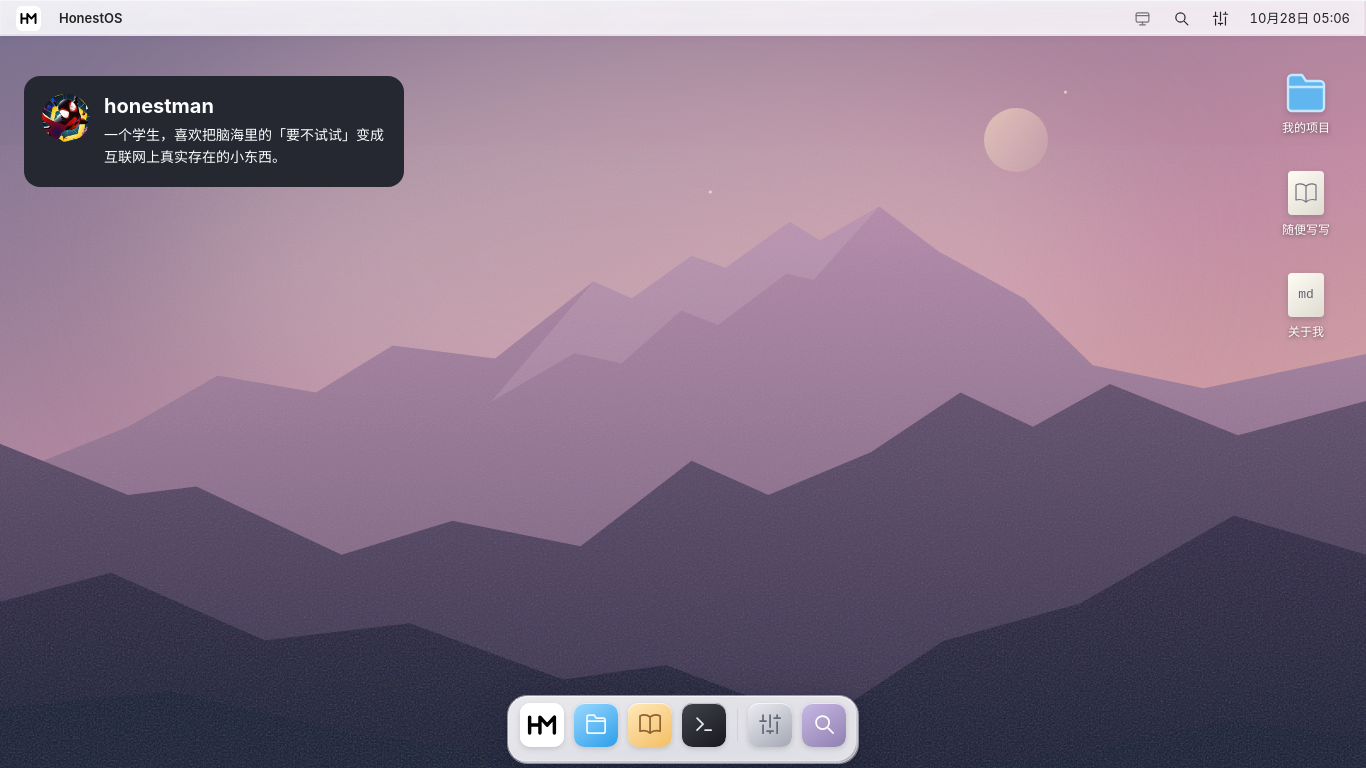
it: honors system reduced motion while preserving the control center motion preference
Click the button named "控制中心": (1220, 18) [1202,3,1238,33]
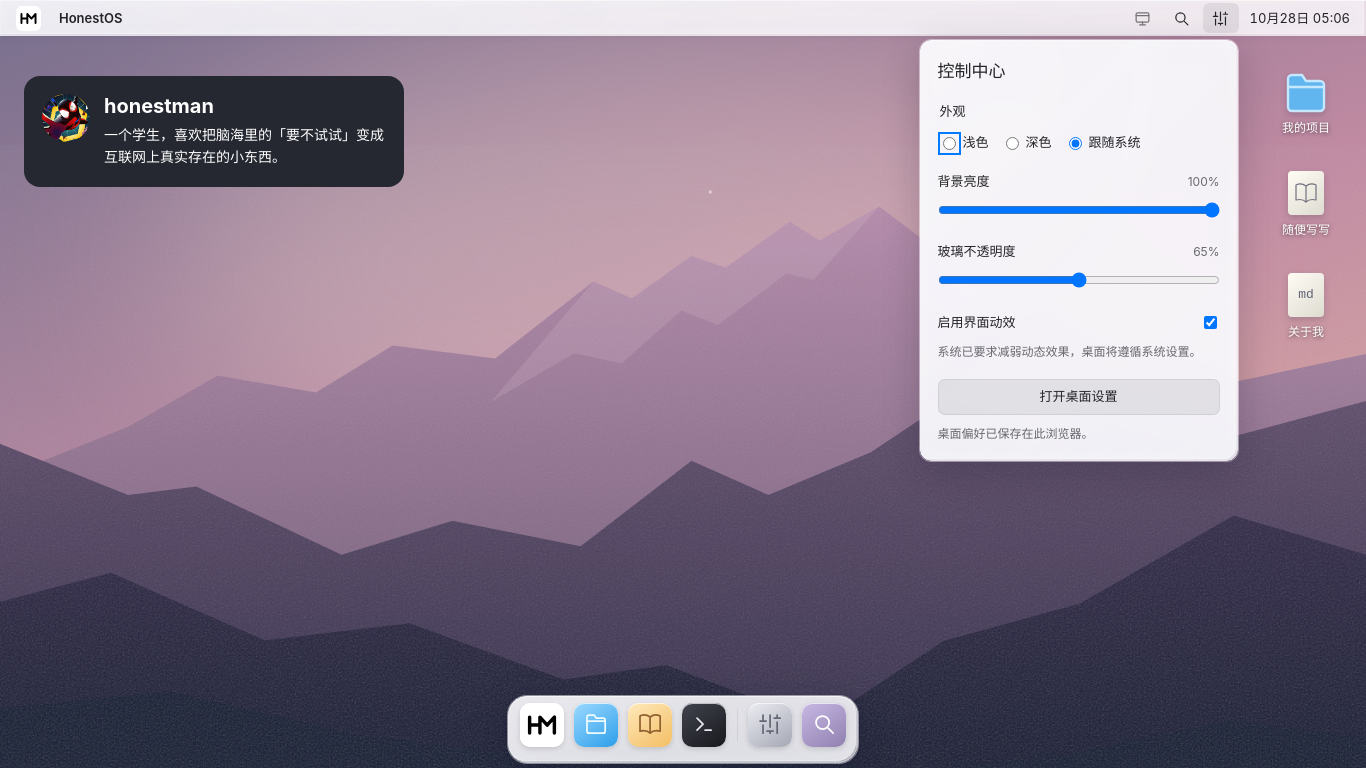
Check: the checkbox labelled "启用界面动效" is checked
Check: the text "系统已要求减弱动态效果，桌面将遵循系统设置。" is shown, box [938,343,1220,361]
Click the checkbox labelled "启用界面动效": (1210, 322) [1204,316,1216,329]
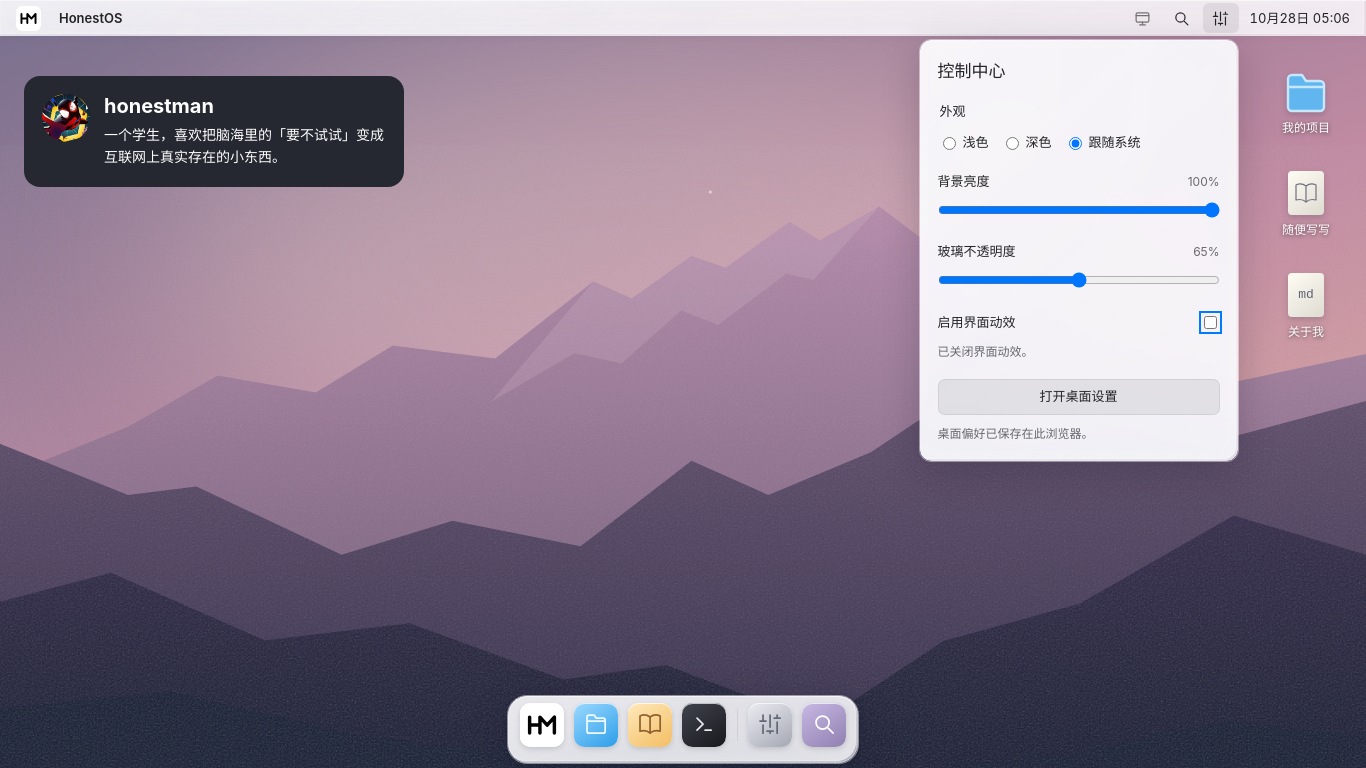
Check: the text "已关闭界面动效。" is shown, box [938,344,1034,359]
Click the checkbox labelled "启用界面动效": (1210, 322) [1204,316,1216,329]
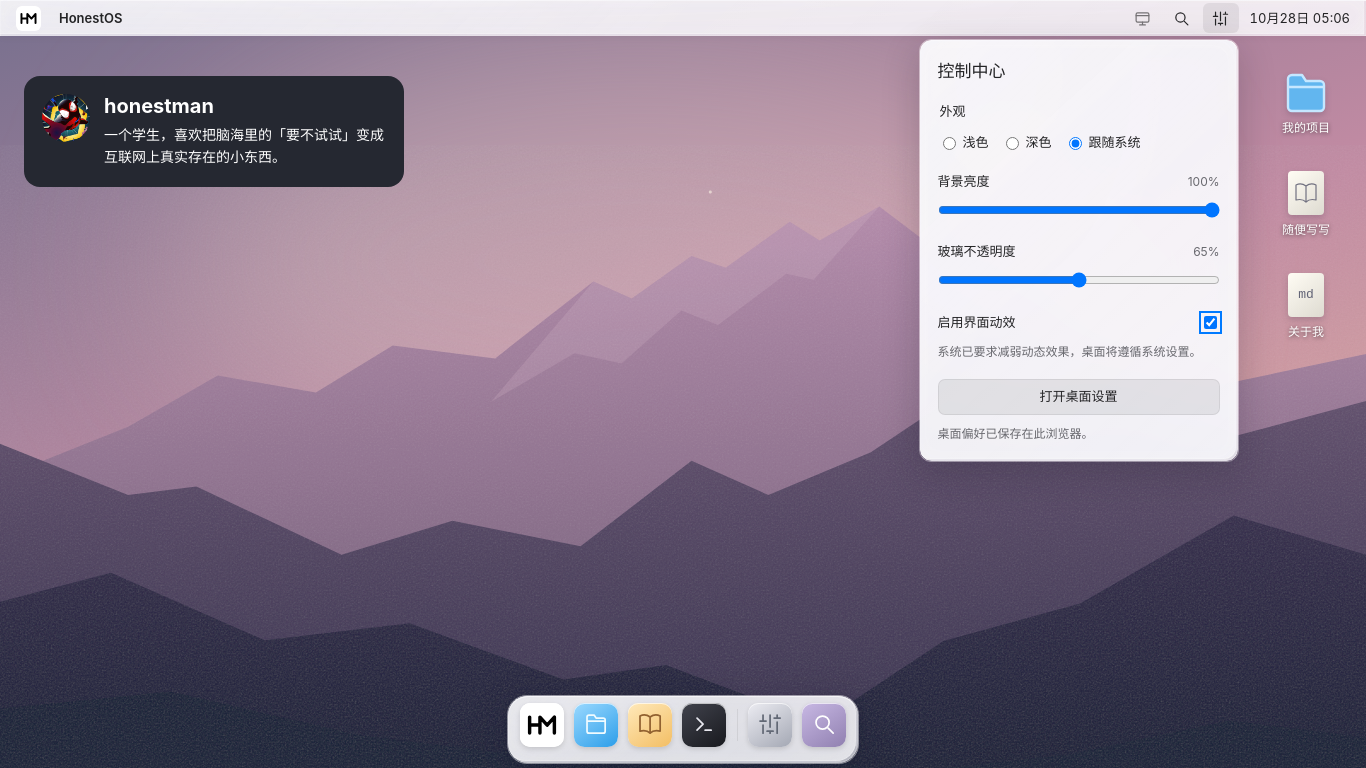
Check: the text "系统已要求减弱动态效果，桌面将遵循系统设置。" is shown, box [938,343,1220,361]
